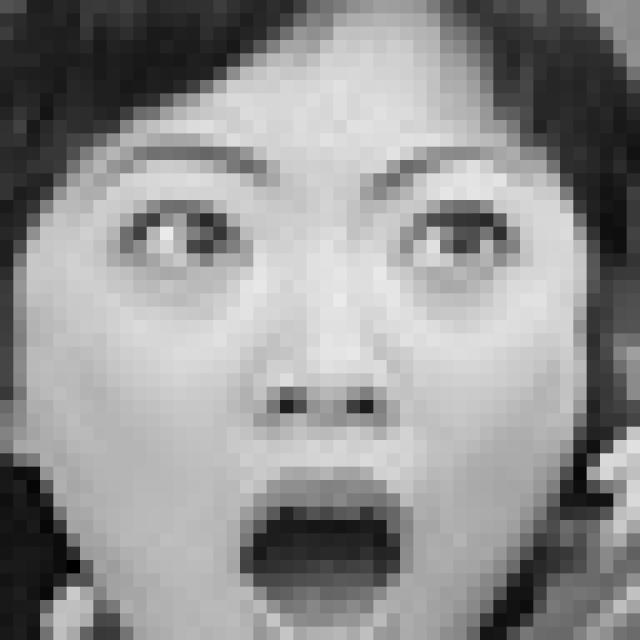surprise: (75, 127, 543, 640)
